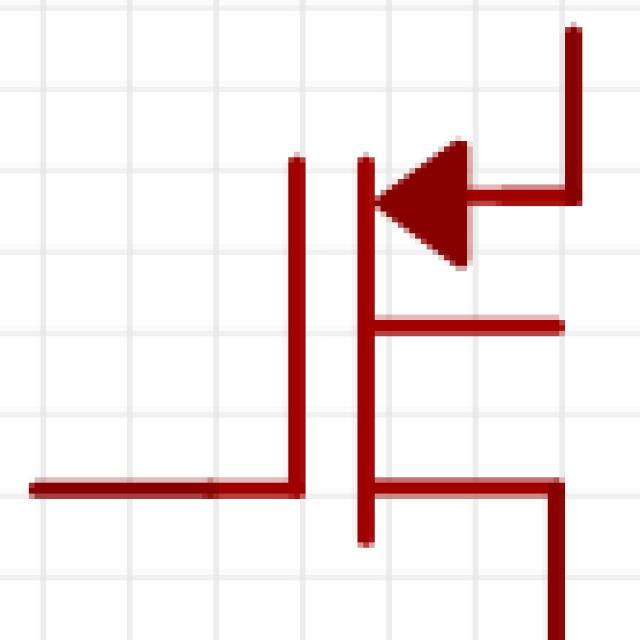pmos: (57, 65, 640, 640)
